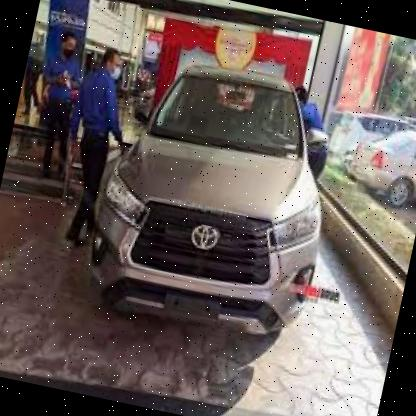car: (62, 38, 380, 373)
person: (45, 29, 145, 266), (15, 24, 98, 192)
